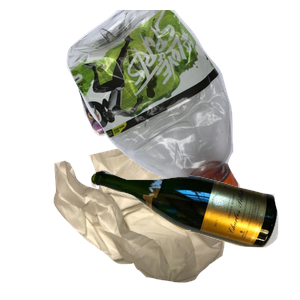glass: (88, 167, 300, 300)
metal: (75, 56, 198, 185)
plastic: (64, 10, 300, 190)
trash: (51, 142, 278, 300)
